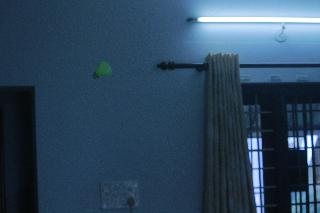shuttlecock: (92, 61, 111, 78)
